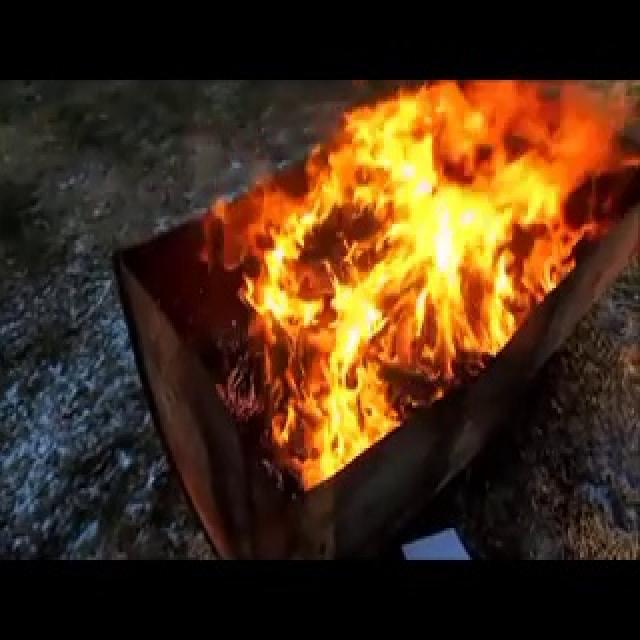fire: (200, 85, 622, 488)
